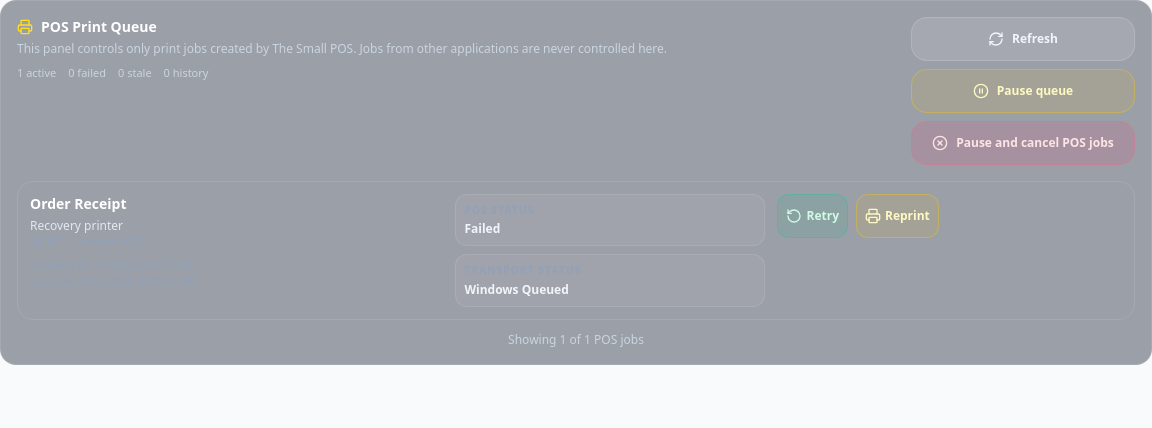
Test: PrintQueuePanel managed POS controls › locks every action for one job while its retry mutation is still pending
What coordinates should you click on to do the following:
click the button with aria-label "Retry POS print job"
I would click on:
 (813, 216)
Its box is [778,194,848,238].
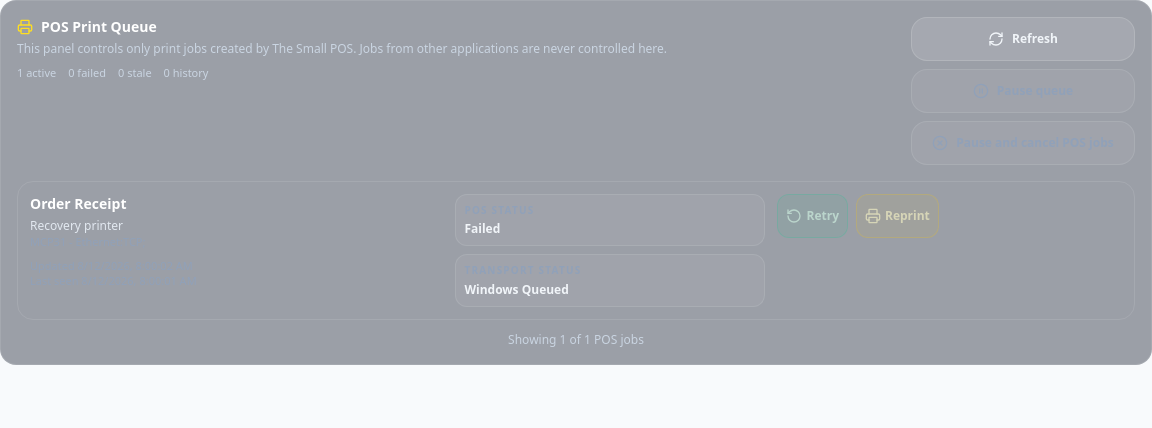
Expected: the button with aria-label "Retry POS print job" is disabled, [778,194,848,238]
Expected: the button with aria-label "Reprint POS print job" is disabled
Expected: the button "Pause and cancel POS jobs" is disabled, [911,121,1135,165]
What coordinates should you click on to do the following:
click the button with aria-label "Reprint POS print job"
I would click on:
 (897, 216)
Its box is [856,194,939,238].
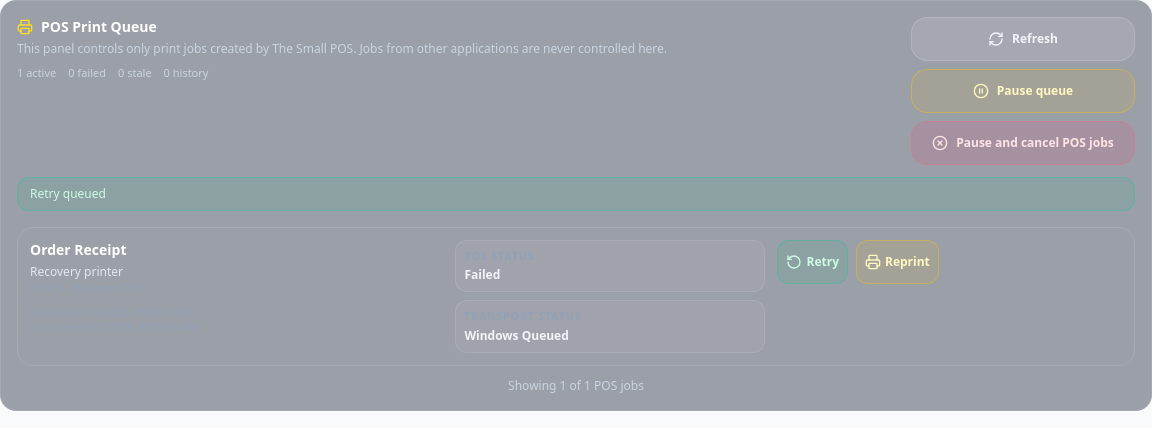
Expected: the button with aria-label "Reprint POS print job" is enabled, [856,240,939,284]
